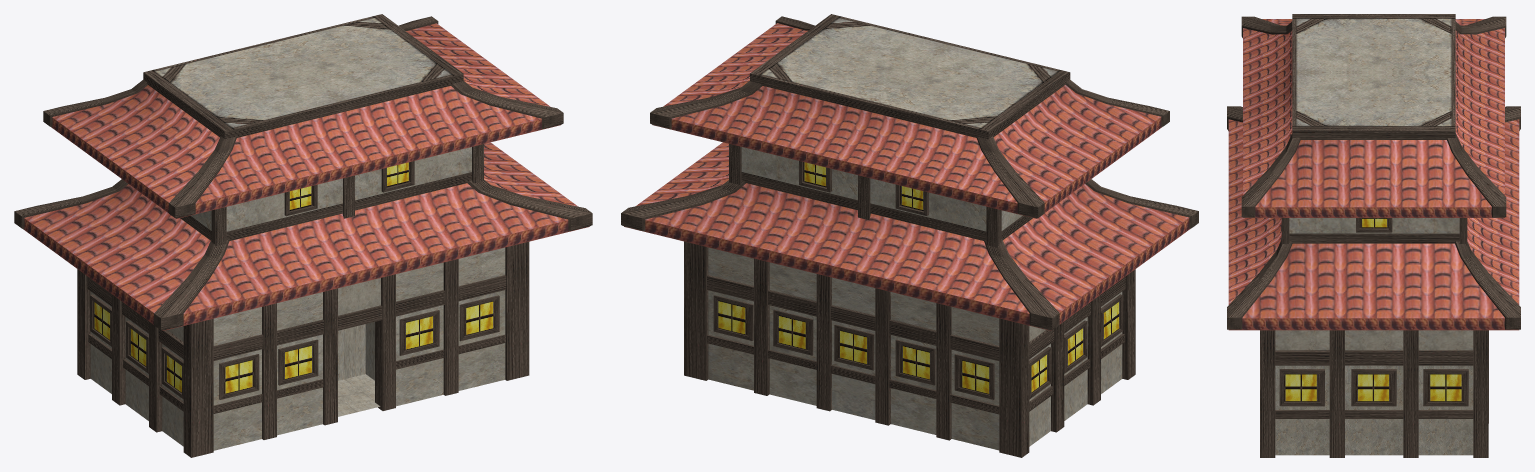
File: casa-oriental-05.fbx
The picture shows the model from 3 angles, left to right: view 1: azimuth 30°, elevation 25°; view 2: azimuth 150°, elevation 25°; view 3: azimuth 270°, elevation 25°; orthographic projection.
Parts seen in each view (by area): view 1: Cube.000, Cube.002, Cube.001; view 2: Cube.000, Cube.002; view 3: Cube.000, Cube.002.
Part boxes in pixels (bbox=[...]): Cube.000: bbox=[14, 14, 592, 457]; Cube.002: bbox=[93, 162, 495, 394]; Cube.001: bbox=[338, 322, 380, 416]; Cube.000: bbox=[621, 14, 1198, 457]; Cube.002: bbox=[717, 162, 1119, 394]; Cube.000: bbox=[1227, 14, 1520, 457]; Cube.002: bbox=[1284, 218, 1463, 401].
Size of the model in its own units: 9.14 by 6.11 by 5.37.
